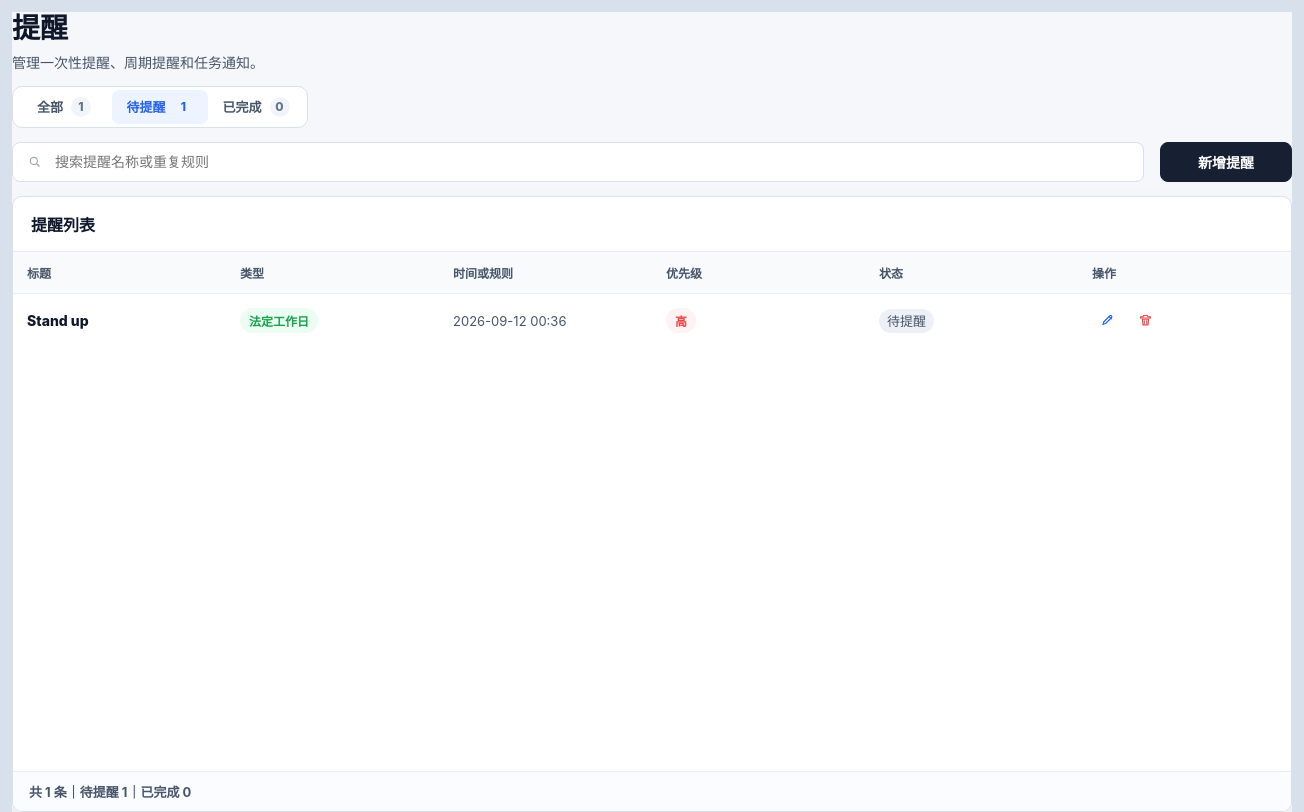
does not show add actions inside empty filtered states
Click the button "已完成 0" at [256, 107], box top-left (208, 90), bottom-right (304, 124)
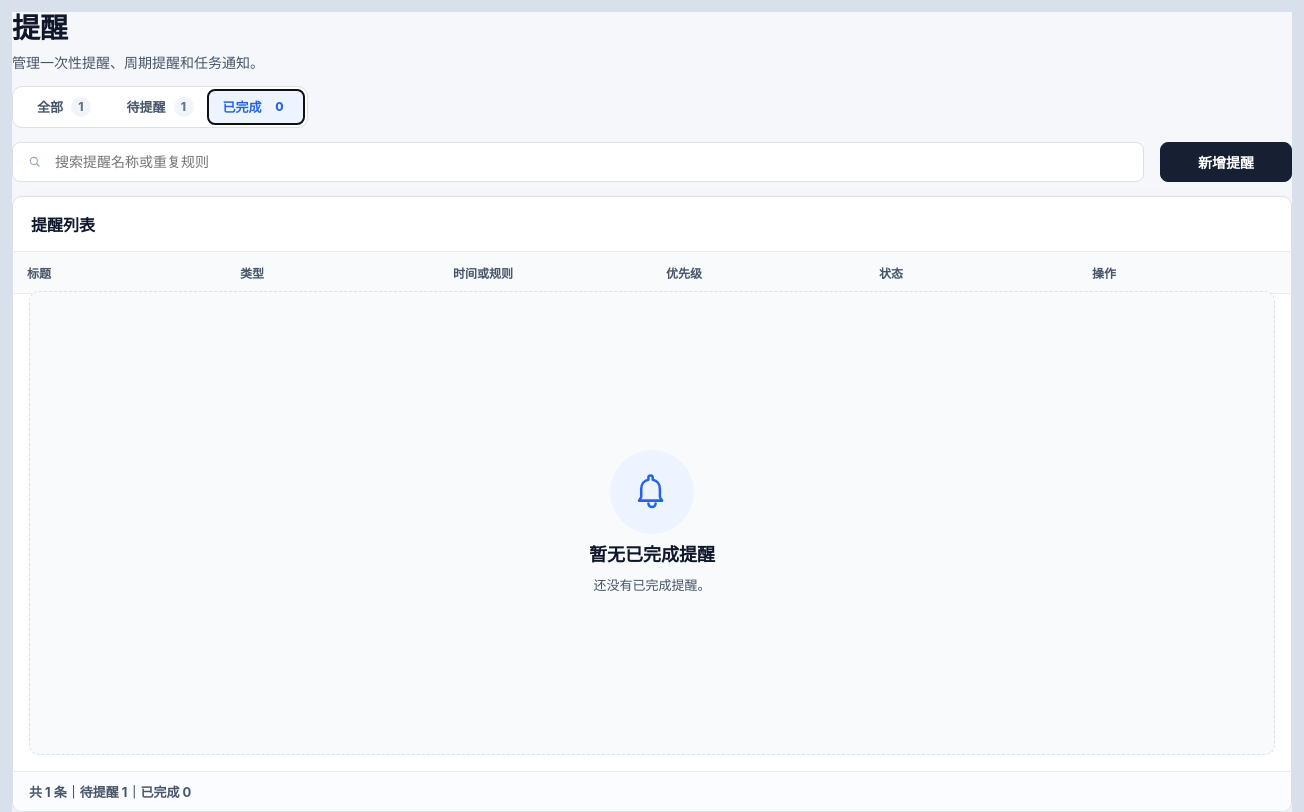
Expected: the number of buttons "新增提醒" is 1, top-left (1160, 142), bottom-right (1292, 182)
Expected: the text "还没有已完成提醒。" is shown, top-left (594, 575), bottom-right (710, 596)
